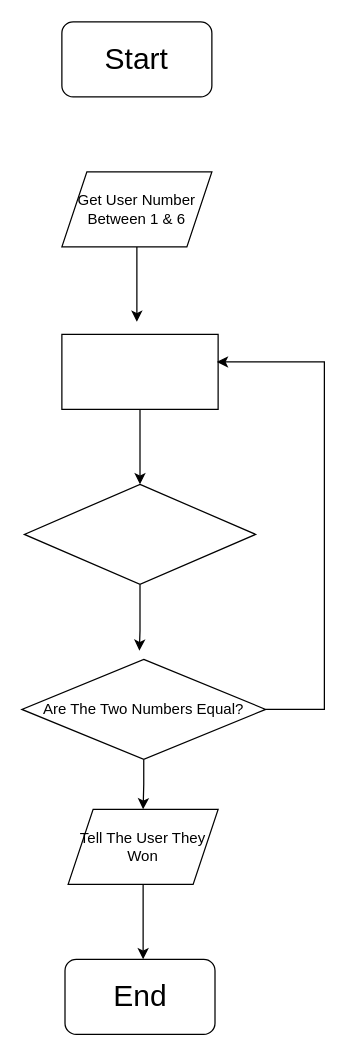
The diagram is 356 pixels wide and 1056 high, and some of its shapes have lost their labels. The centre of each missing label's shape, as x and y in pixels:
Compare Random Number To User Input: (x=139, y=533)
Get Randomly Generated Number Between 1 & 6: (x=139, y=371)
